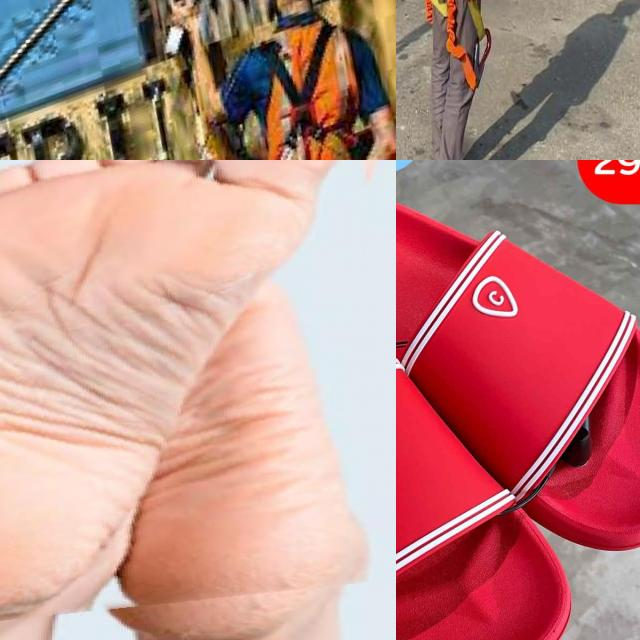Barefoots: (0, 160, 368, 640), (0, 160, 337, 590)
Harness: (244, 25, 388, 160), (426, 0, 492, 90)
Sandals: (396, 164, 640, 640)
